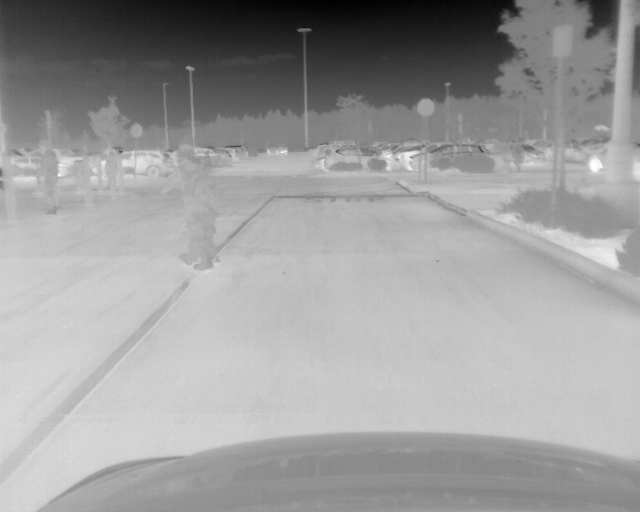car: (412, 144, 489, 172), (95, 152, 169, 175), (326, 148, 392, 173), (592, 143, 638, 172), (523, 143, 545, 162), (267, 144, 287, 156)
people: (162, 147, 214, 273), (34, 144, 61, 217), (201, 199, 219, 269), (512, 140, 523, 170)
